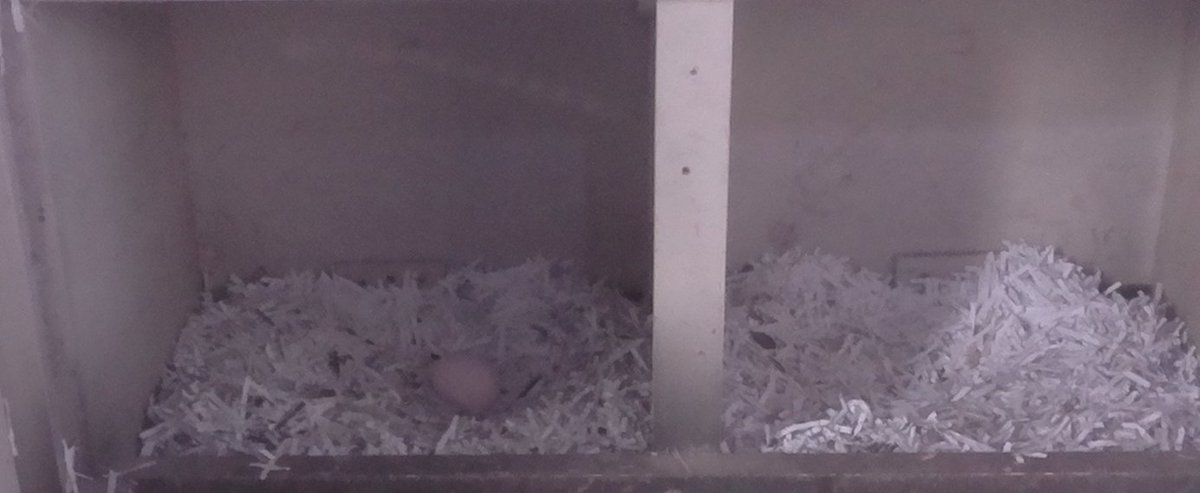egg: (427, 349, 506, 415)
